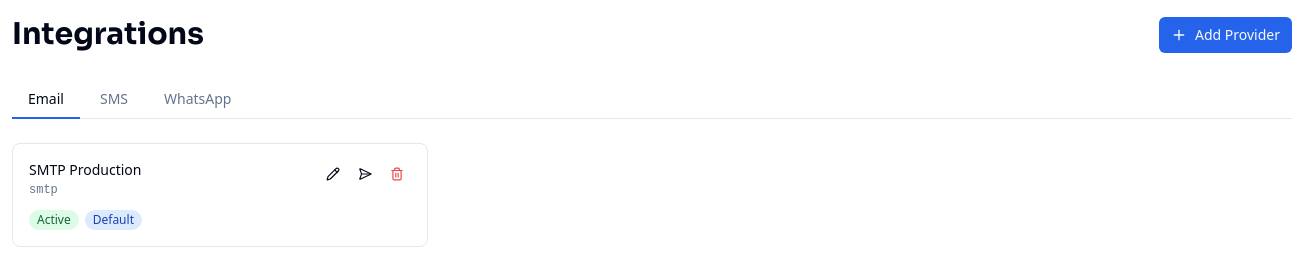
Test: IntegrationsPage — providers › switches to SMS tab and shows SMS providers
Expected: the text "SMTP Production" is shown, [29,160,142,180]
Step 1. Click the button "SMS" → (114, 100), box [84,81,144,119]
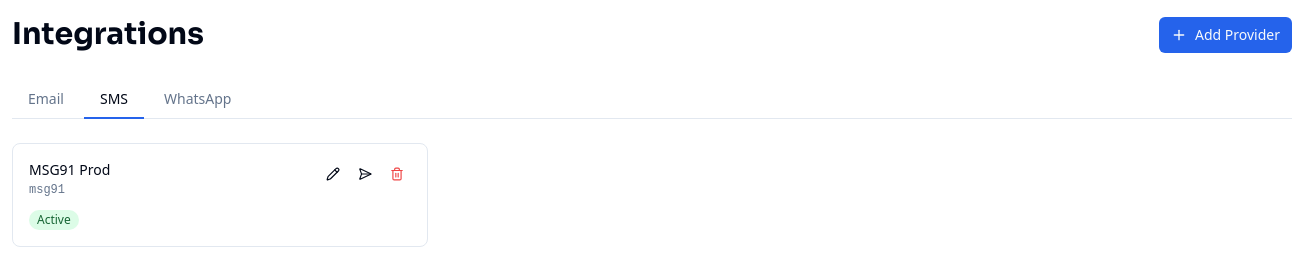
Expected: the text "SMTP Production" is gone
Expected: the text "MSG91 Prod" is shown, [29,160,110,180]
